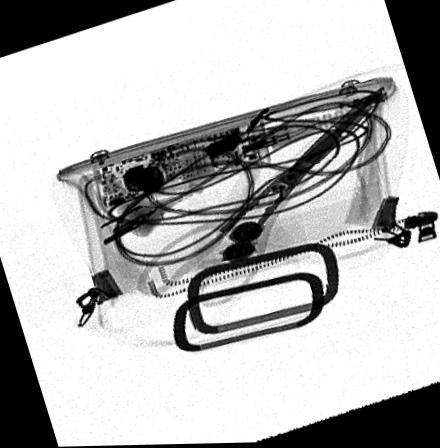Scissors: (132, 81, 386, 309)
